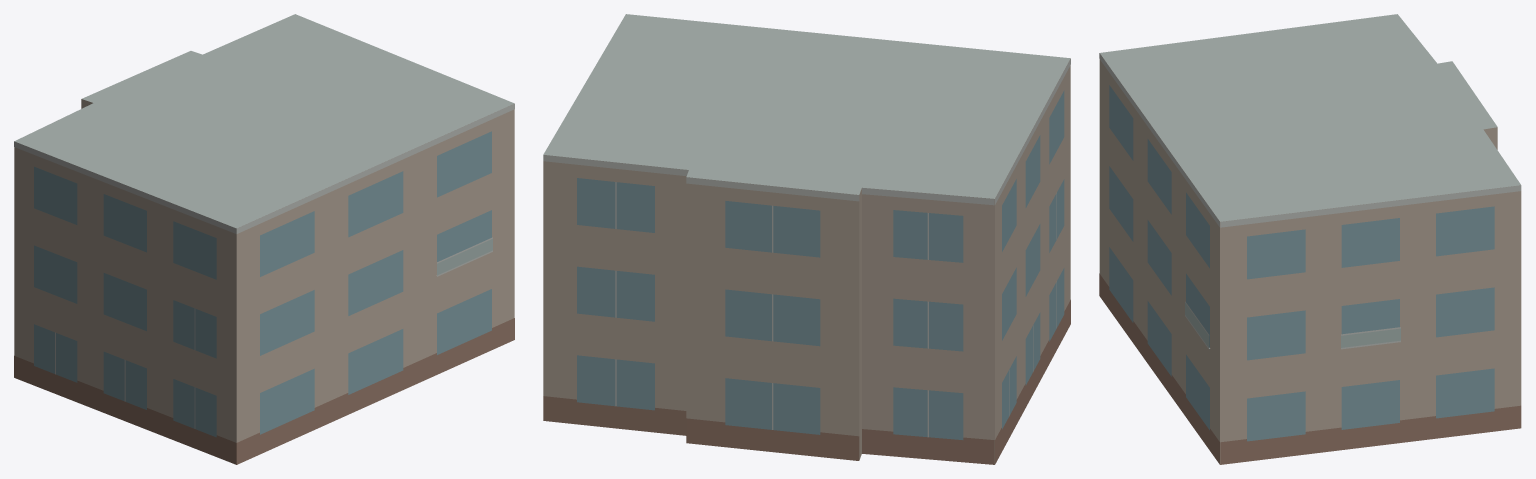
File: survey-upis-32891836.glb
3 renders of one model, left to right at view 1: azimuth 30°, elevation 25°; view 2: azimuth 150°, elevation 25°; view 3: azimuth 270°, elevation 25°, orthographic. The views are drawn at different scales.
Parts seen in each view (by area): view 1: survey-upis-32891836.tmp; view 2: survey-upis-32891836.tmp; view 3: survey-upis-32891836.tmp.
Boxes of the visible parts, left/top/right/bottom form: survey-upis-32891836.tmp: left=14, top=14, right=514, bottom=464; survey-upis-32891836.tmp: left=543, top=14, right=1070, bottom=464; survey-upis-32891836.tmp: left=1099, top=14, right=1521, bottom=464.
Size of the model in its own units: 18.53 by 10.1 by 15.9.
